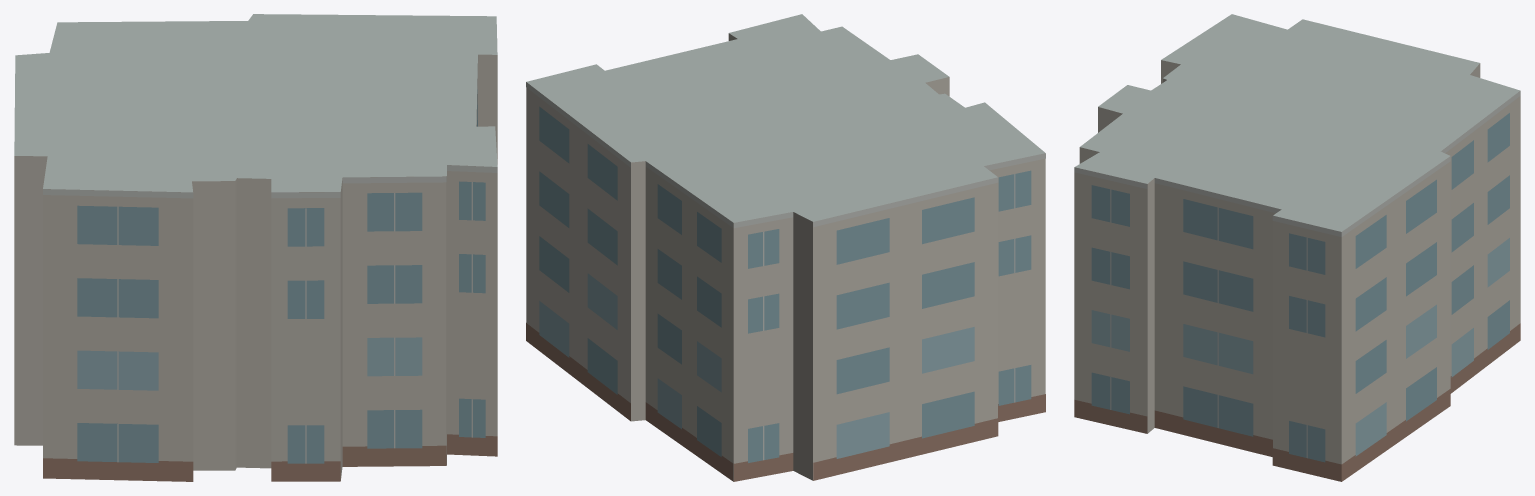
The model's file is survey-upis-32501462.glb.
The picture shows the model from 3 angles, left to right: view 1: azimuth 30°, elevation 25°; view 2: azimuth 150°, elevation 25°; view 3: azimuth 270°, elevation 25°; orthographic projection. The views are drawn at different scales.
Parts seen in each view (by area): view 1: survey-upis-32501462.tmp; view 2: survey-upis-32501462.tmp; view 3: survey-upis-32501462.tmp.
Part boxes in pixels (x1,y1,x2,y2): survey-upis-32501462.tmp: [14, 14, 497, 481]; survey-upis-32501462.tmp: [526, 14, 1045, 481]; survey-upis-32501462.tmp: [1074, 14, 1520, 481].
Bounding box in the file's own units: 21.89 × 11.7 × 18.94.
